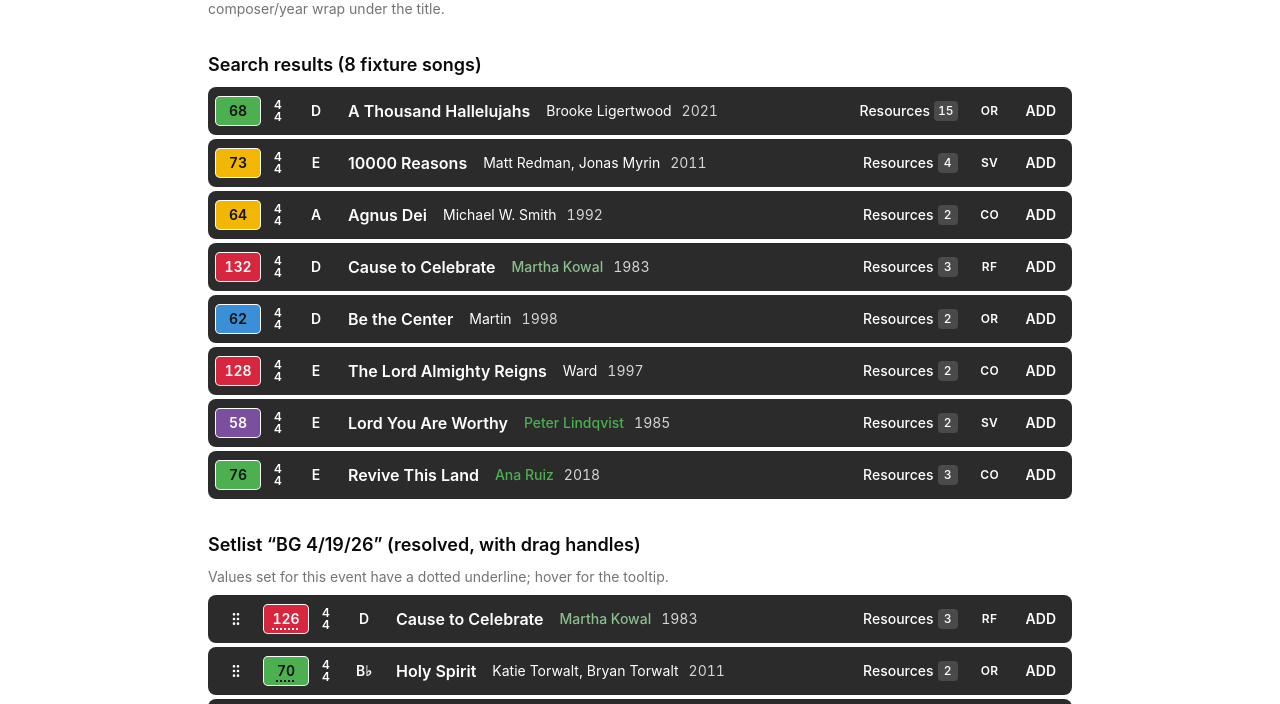
it: SongRowGallery › renders 8 result rows plus the setlist and logs callbacks
The image size is (1280, 704).
Expected: the picture named "set for this event" is shown, [264,605,308,633]
Expected: the button named "Reorder " is shown, [216,599,256,639]
Click the button named "show all keys" at x=316, y=111, box [296,91,336,131]
(page scrolled)
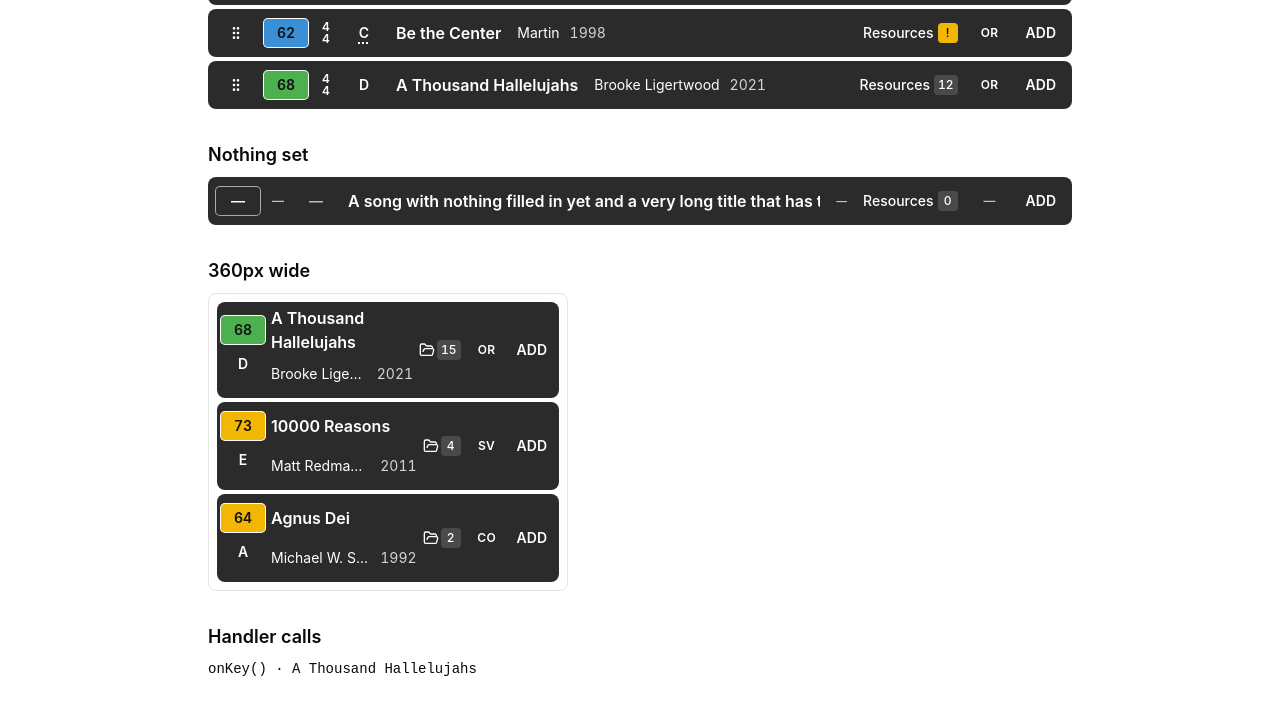
Expected: the list with test id "handler-log" shows "onKey()", [208,661,477,677]
